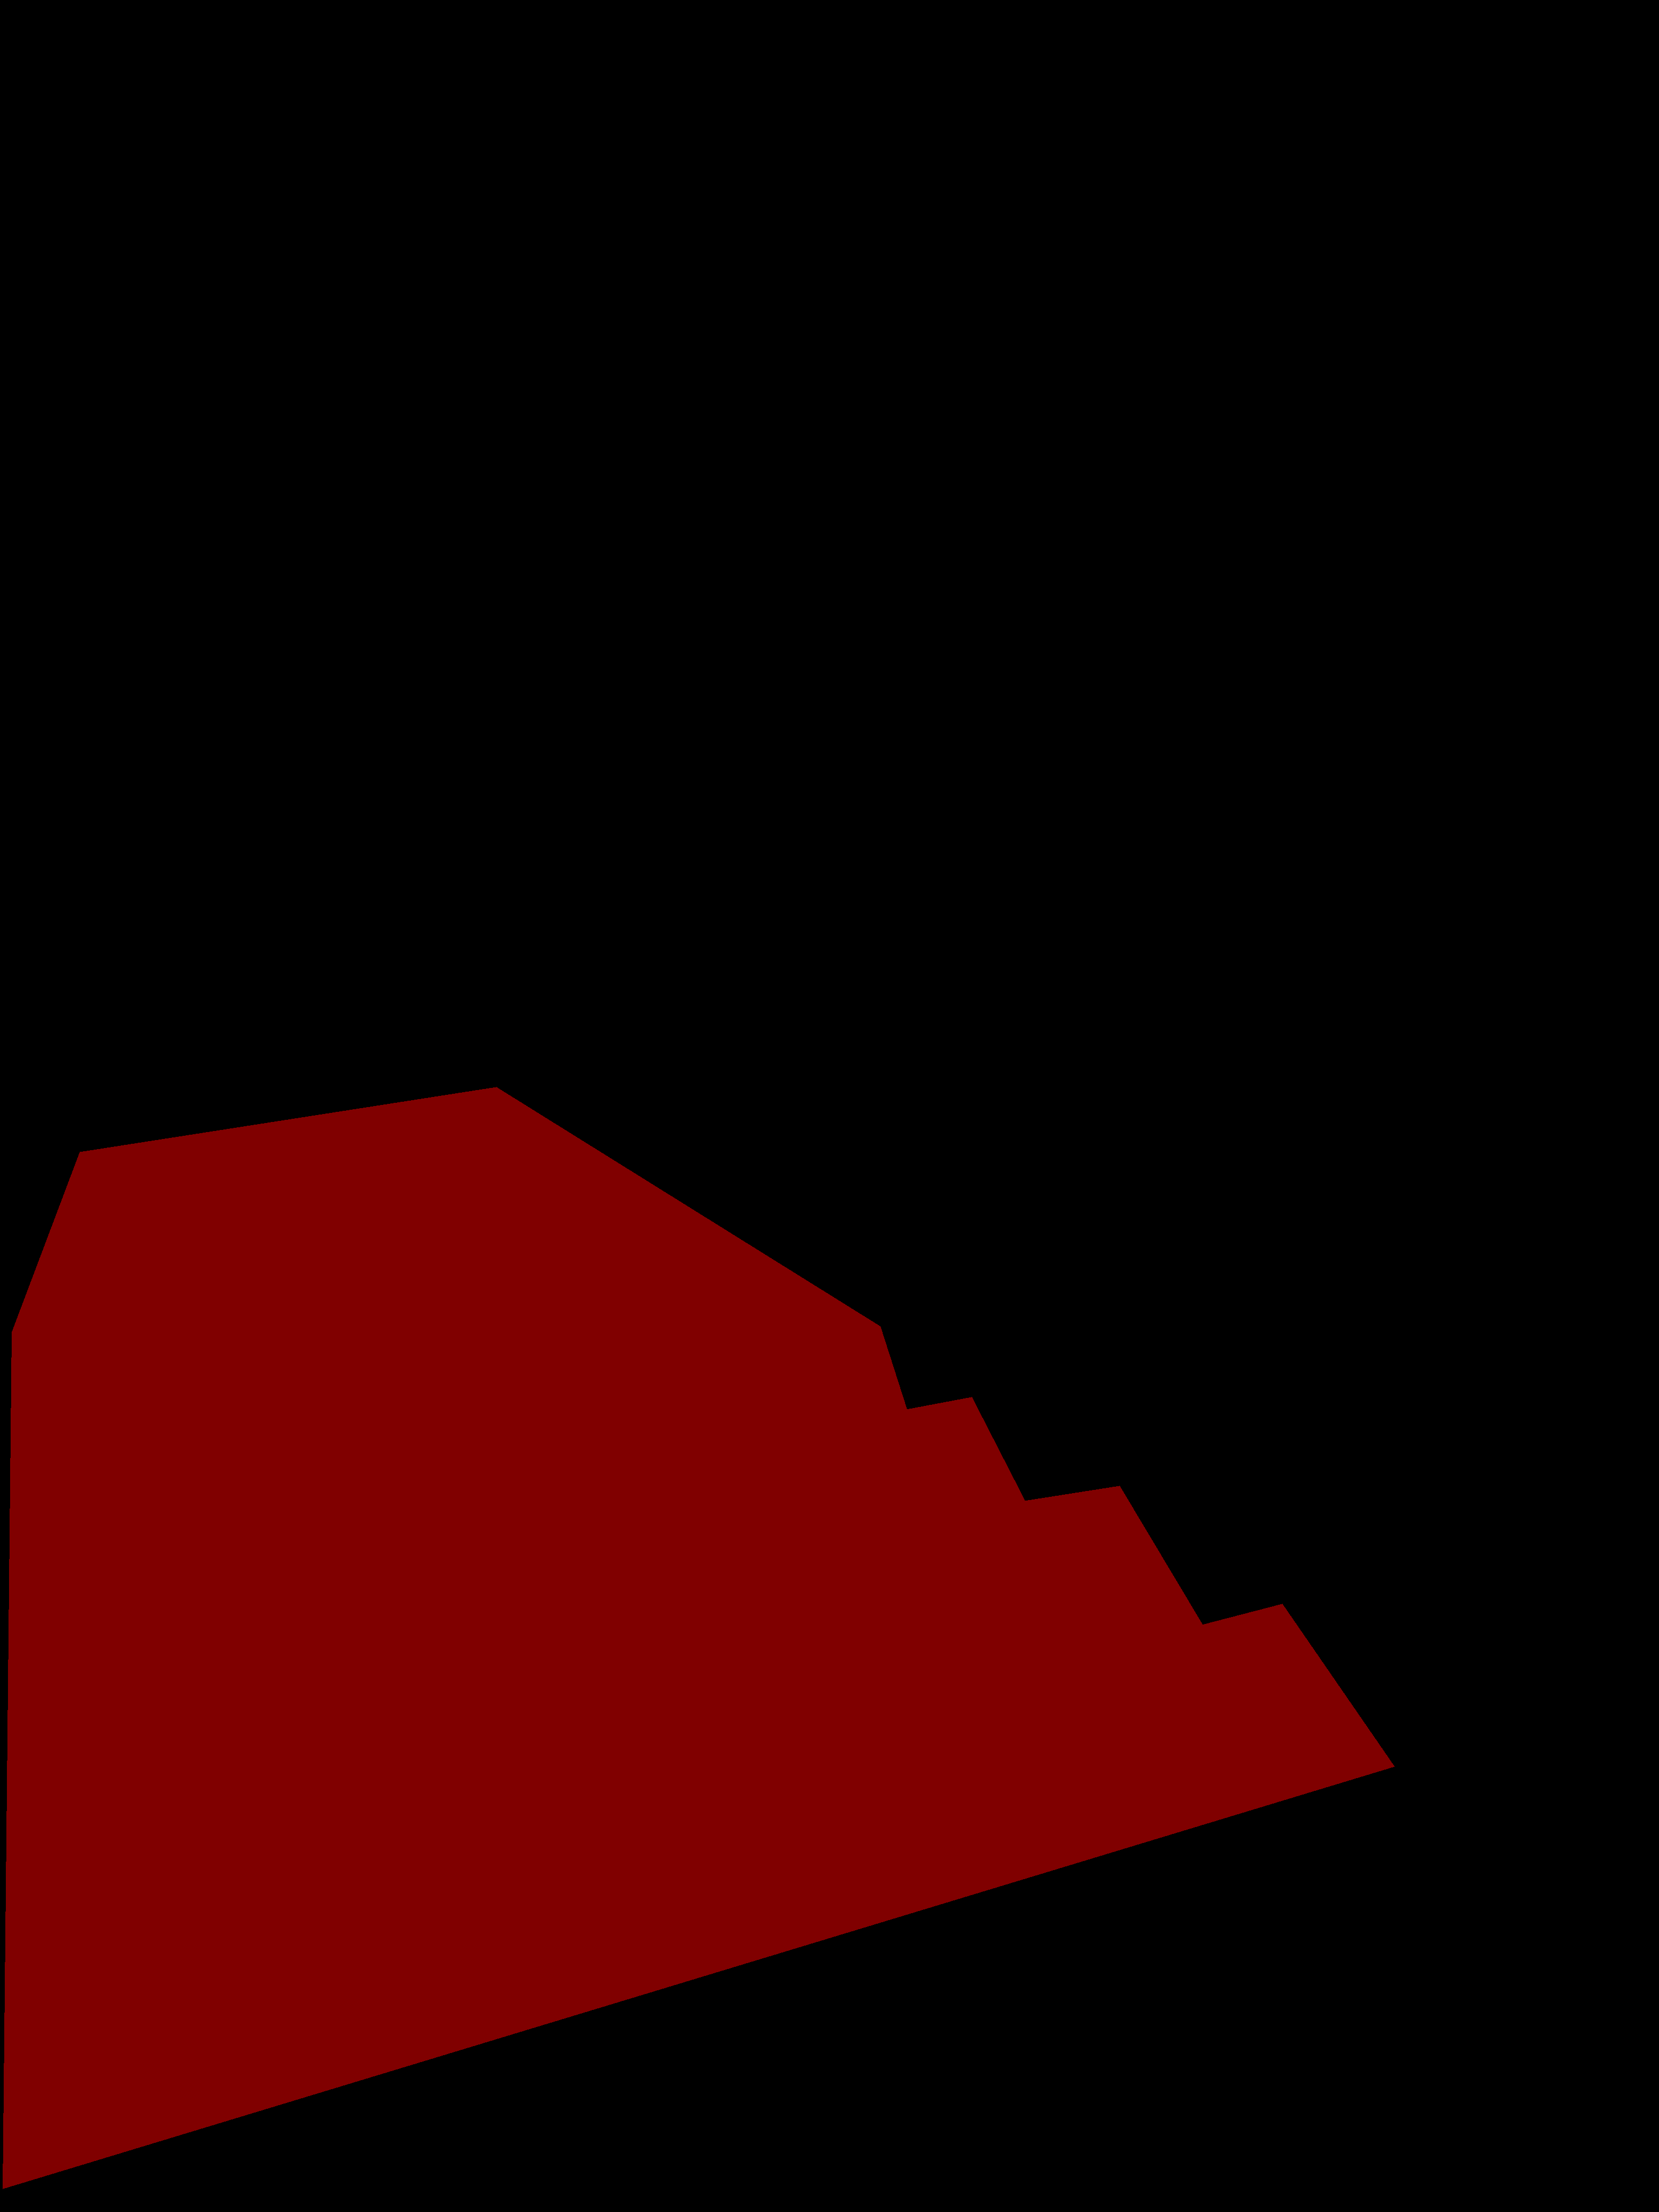stair: (3, 1087, 1394, 2189)
